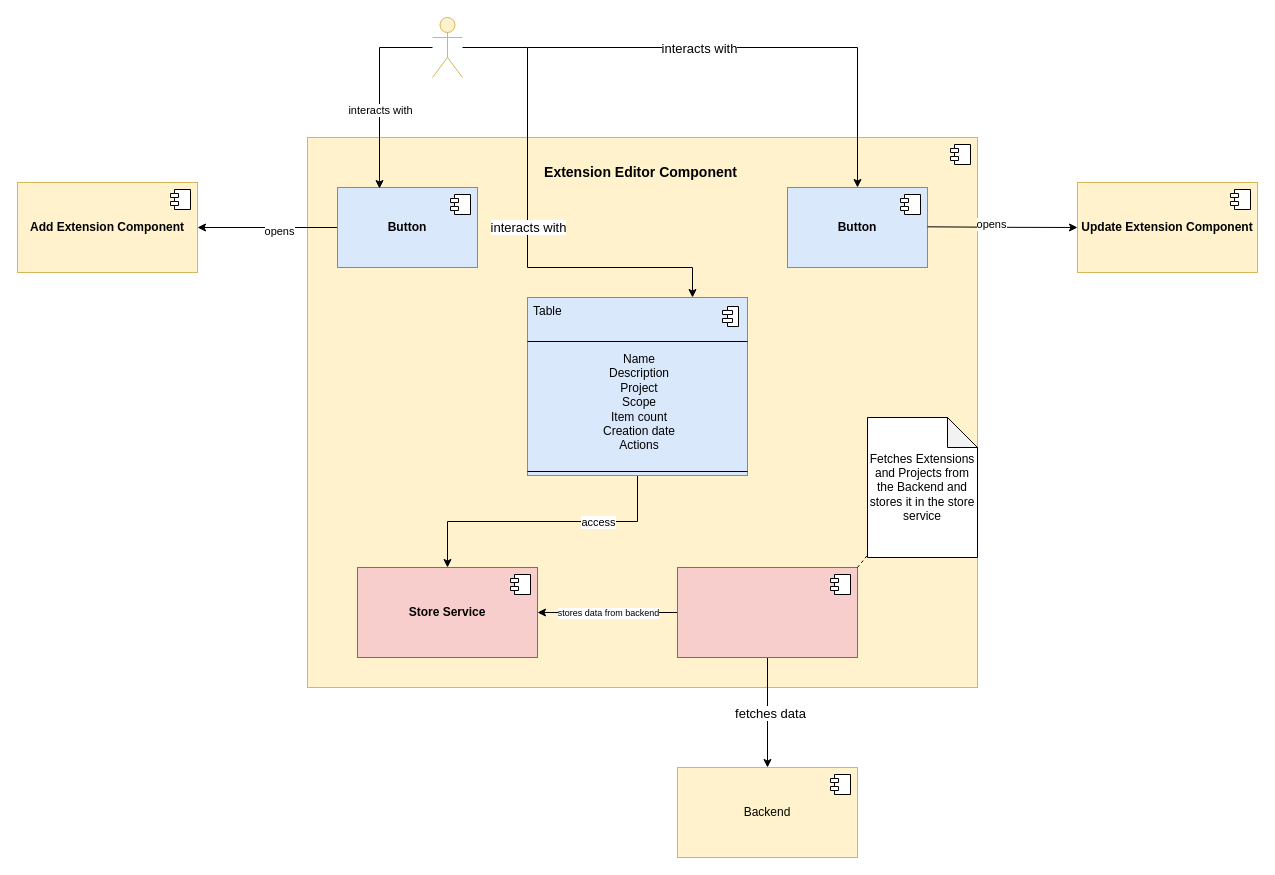
Some shapes in this 1275 by 875 pixel diagram are drawn without their labels. Each missing label, with the box of its shape:
Backend Service: (676, 566, 858, 658)
User: (432, 16, 462, 78)
